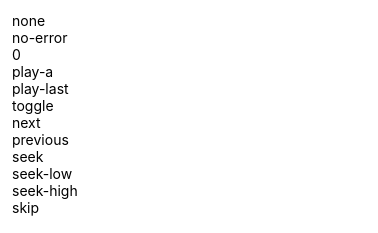
Scenario: FanPerformancePlayerProvider › refuses to load without a member token
This screenshot has width=378, height=233.
Click the element with test id "play-a".
click(33, 72)  # box [12,63,53,80]
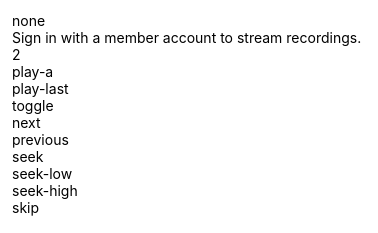
Expected: the text with test id "error" reads "Sign in with a member account to stream recordings.", [12,29,361,46]
